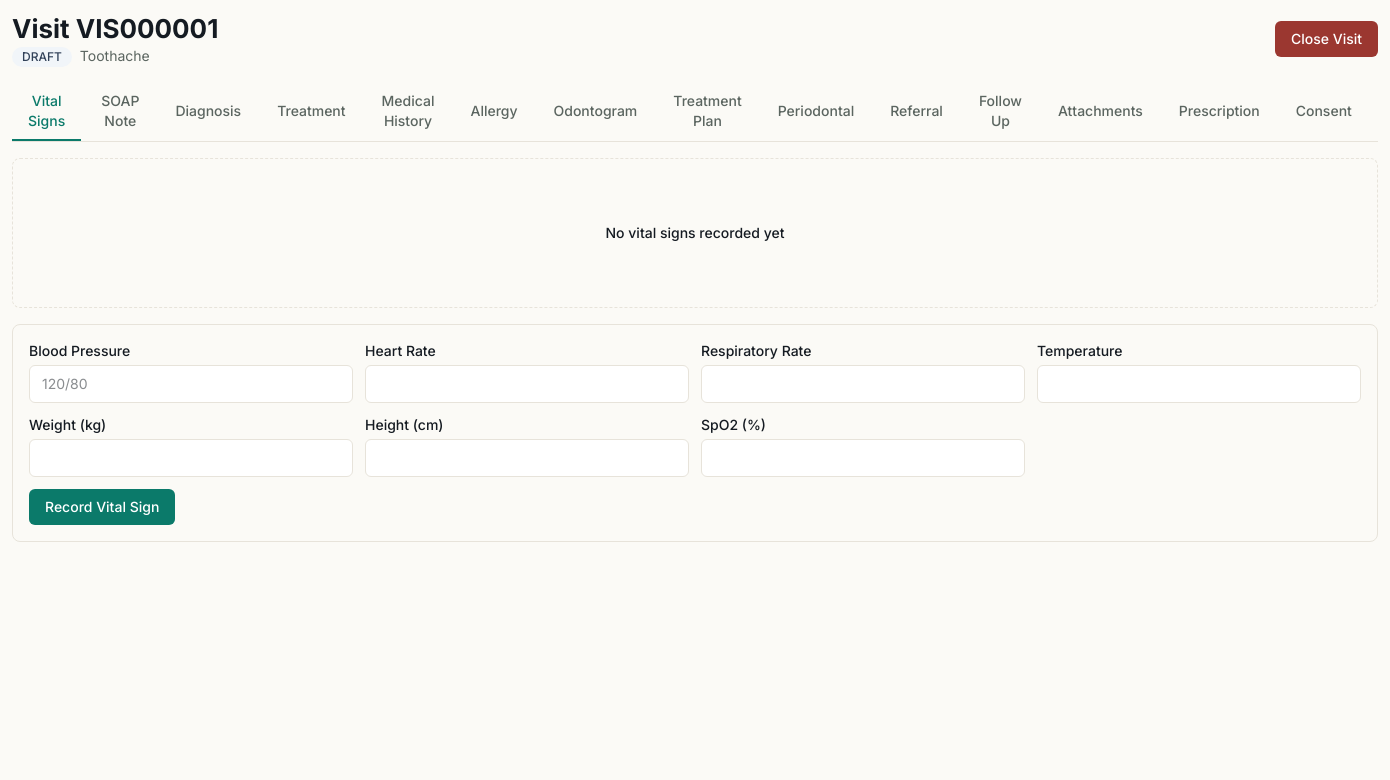
Test: VisitWorkspace › shows the backend's error when closing without minimum documentation
expect the heading "Visit VIS000001" is shown: met, box [12,12,218,46]
Click the button "Close Visit". click: (1326,39)
box: [1275,21,1378,57]
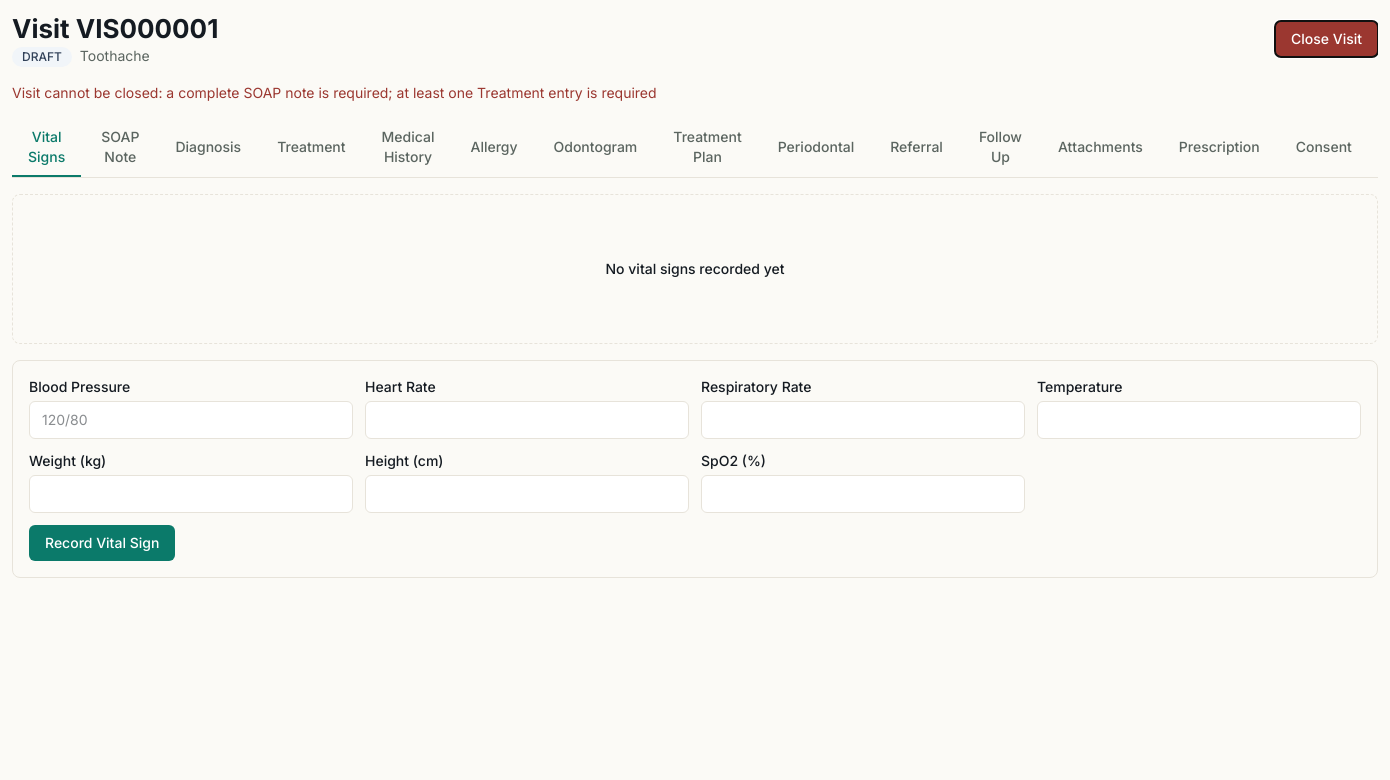
expect the message shows "Visit cannot be closed": met, box [12,84,657,101]
